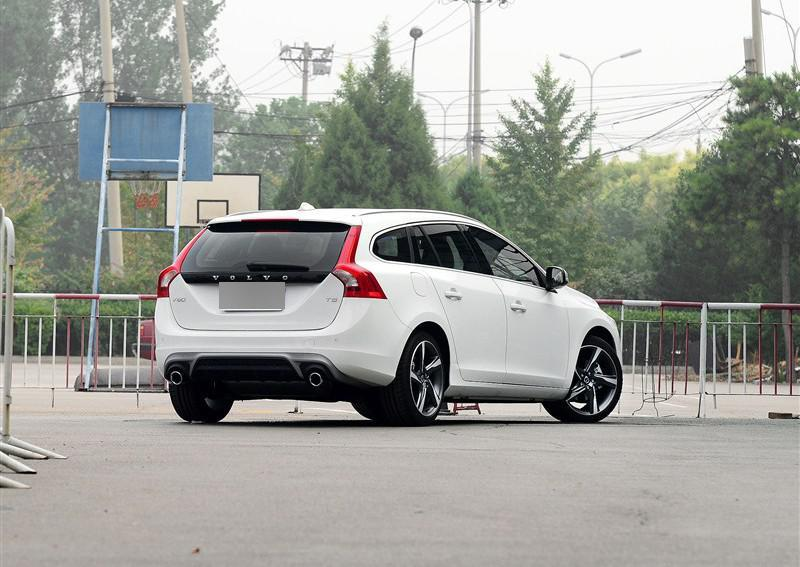Wagon: (145, 199, 628, 429)
